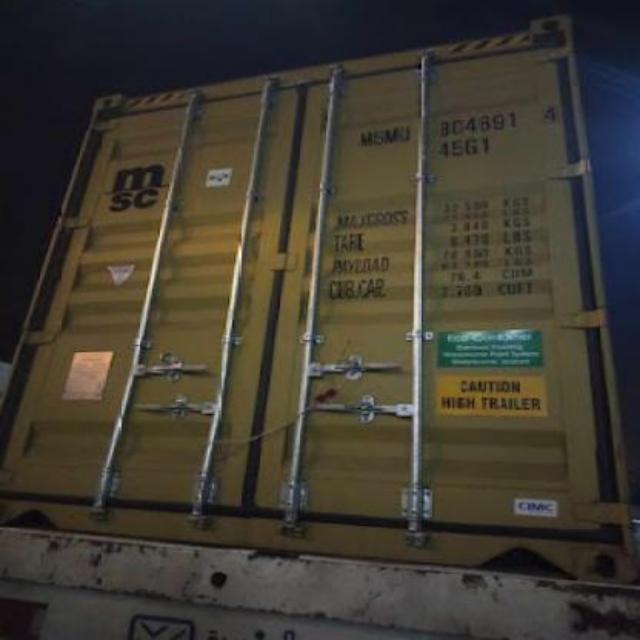0: (450, 113, 460, 137)
1: (504, 106, 518, 130)
4: (542, 104, 560, 125), (460, 112, 476, 134)
6: (476, 112, 489, 134)
8: (436, 115, 448, 136)
9: (491, 108, 504, 134)
M: (354, 126, 372, 150), (382, 123, 396, 147)
S: (372, 124, 384, 146)
U: (396, 122, 412, 144)
